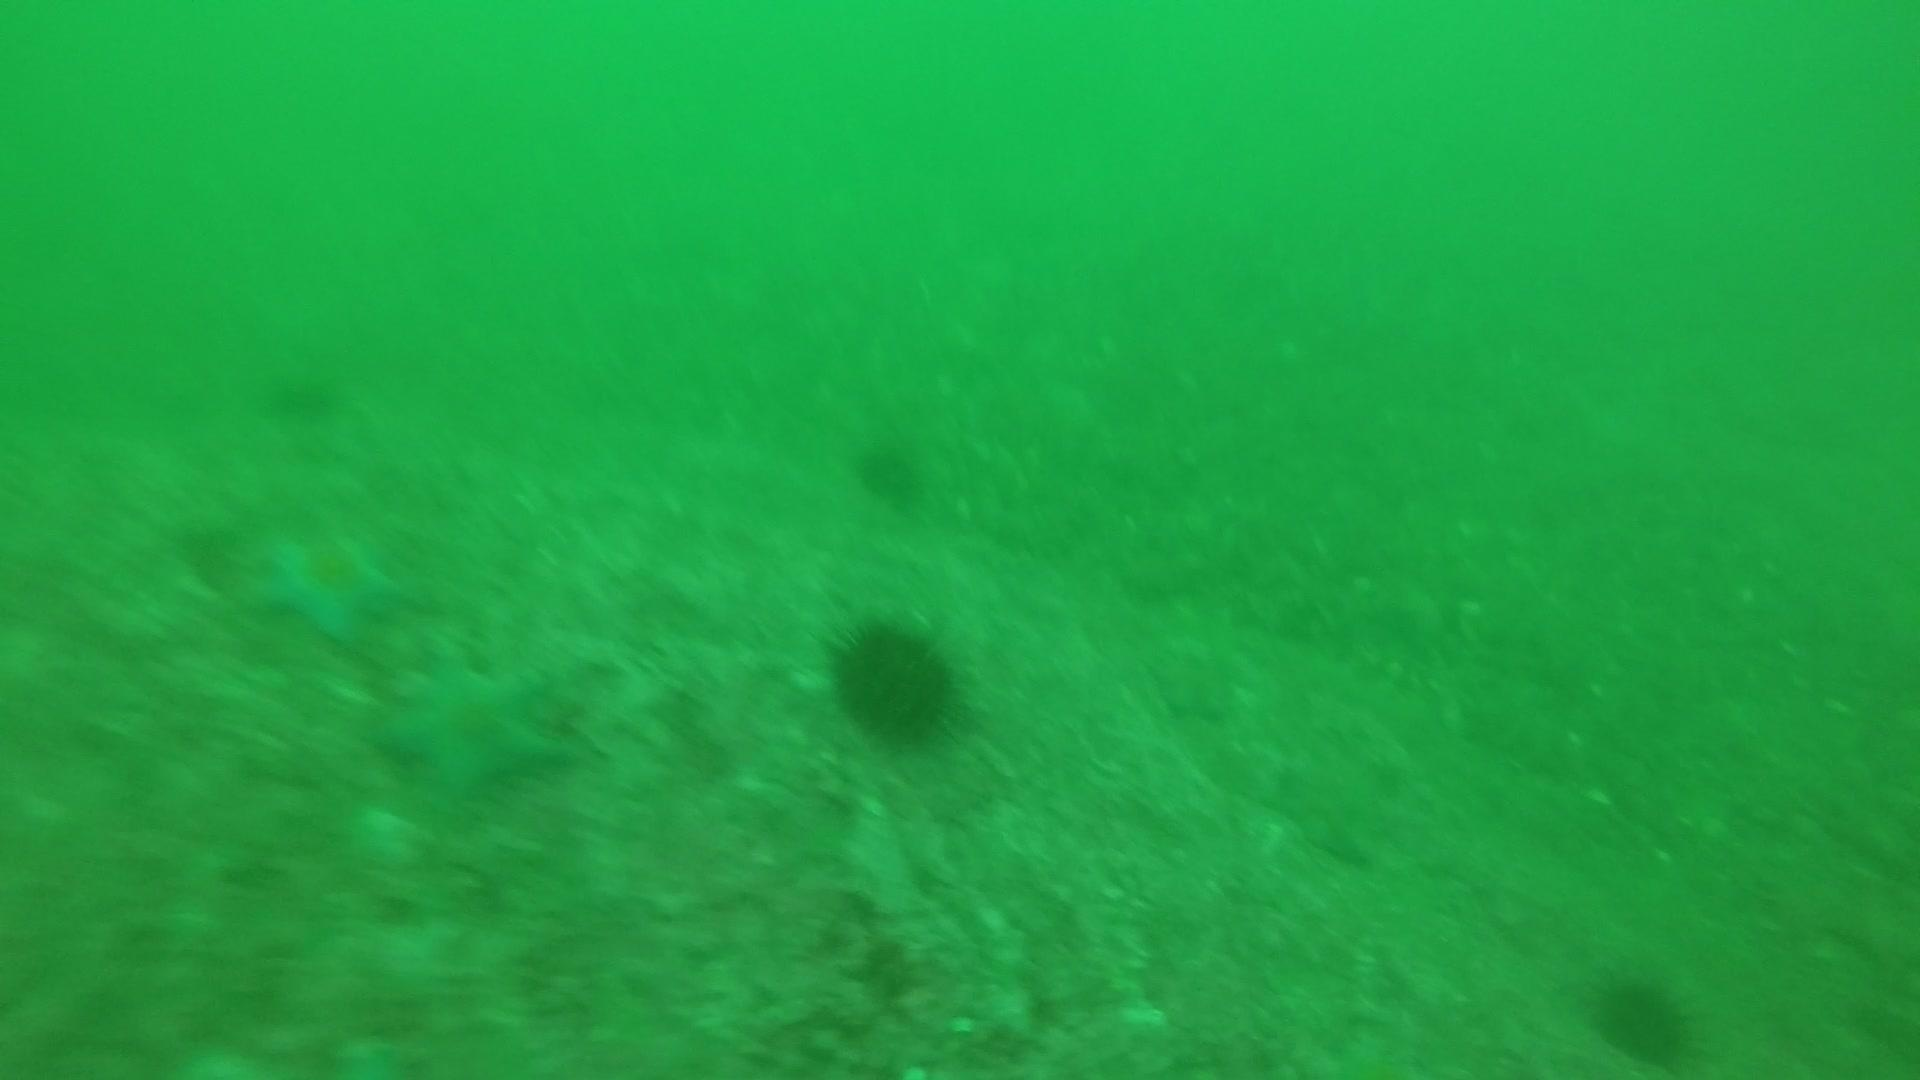echinus: (822, 611, 969, 752), (1585, 967, 1698, 1069), (849, 429, 931, 508), (261, 356, 347, 425), (174, 516, 247, 591)
starfish: (375, 644, 570, 804), (251, 522, 410, 647), (1269, 748, 1390, 866)
